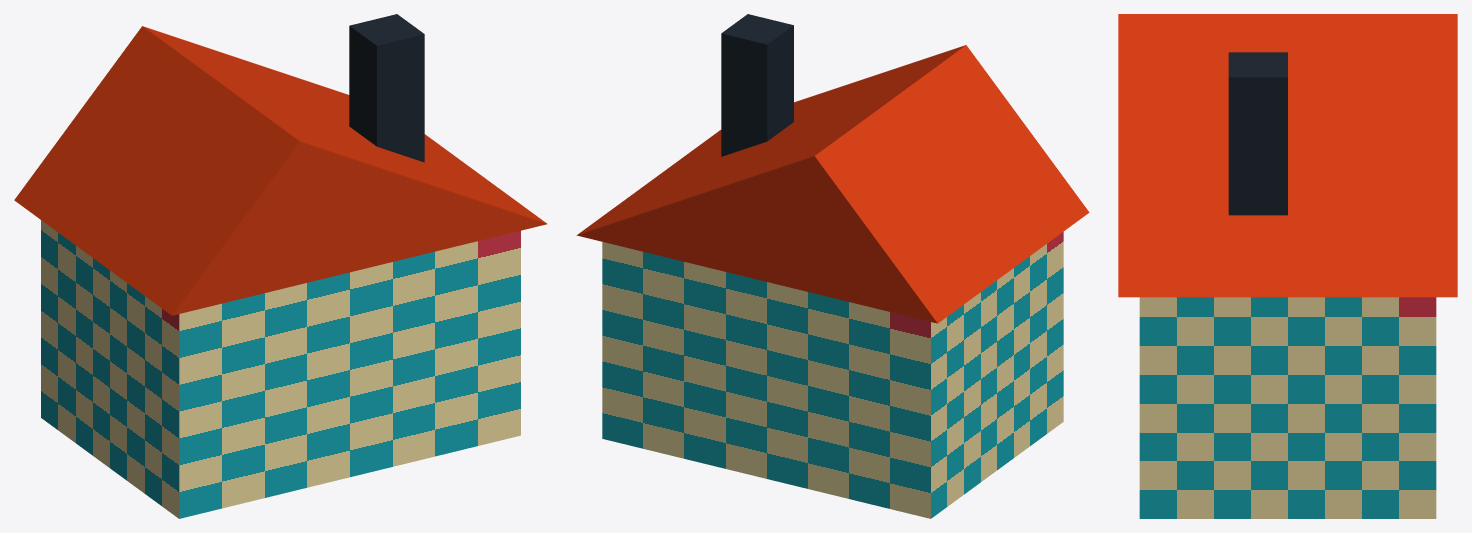
The model's file is house.fbx.
3 views of the same model, side by side, from view 1: azimuth 30°, elevation 25°; view 2: azimuth 150°, elevation 25°; view 3: azimuth 270°, elevation 25° (orthographic). The views are drawn at different scales.
Parts seen in each view (by area): view 1: Walls, Roof, Chimney; view 2: Walls, Roof, Chimney; view 3: Roof, Walls, Chimney.
Boxes of the visible parts, x1=… form: Walls: x1=41, y1=220, x2=520, y2=518; Roof: x1=14, y1=26, x2=547, y2=315; Chimney: x1=349, y1=14, x2=424, y2=162; Walls: x1=602, y1=232, x2=1063, y2=518; Roof: x1=576, y1=45, x2=1089, y2=323; Chimney: x1=721, y1=14, x2=793, y2=156; Roof: x1=1118, y1=14, x2=1457, y2=297; Walls: x1=1139, y1=297, x2=1436, y2=518; Chimney: x1=1228, y1=52, x2=1287, y2=215.
Bounding box in the file's own units: 2.2 × 2.15 × 1.6.
Materials: 3 (1 with a texture image).
